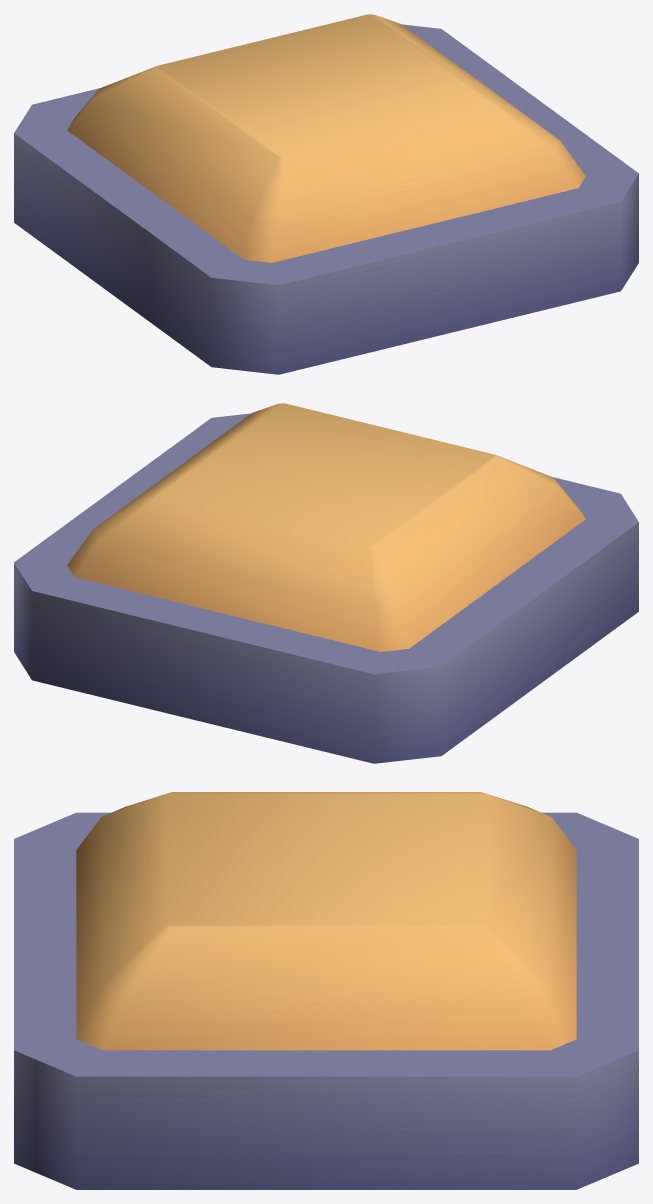
The model's file is kenney-factory-button-floor-square-small.glb.
The picture shows the model from 3 angles, top to bottom: view 1: azimuth 30°, elevation 25°; view 2: azimuth 150°, elevation 25°; view 3: azimuth 270°, elevation 25°; orthographic projection. The views are drawn at different scales.
Visible parts, largest first — view 1: button-floor-square-small, button; view 2: button-floor-square-small, button; view 3: button, button-floor-square-small.
Boxes of the visible parts, <box> form: button-floor-square-small: <box>14,24,638,374</box>; button: <box>67,14,585,262</box>; button-floor-square-small: <box>14,413,638,763</box>; button: <box>67,403,585,651</box>; button: <box>76,792,576,1050</box>; button-floor-square-small: <box>14,812,638,1189</box>.
Size of the model in its own units: 0.5 by 0.175 by 0.5.
1 material, 1 textured.
